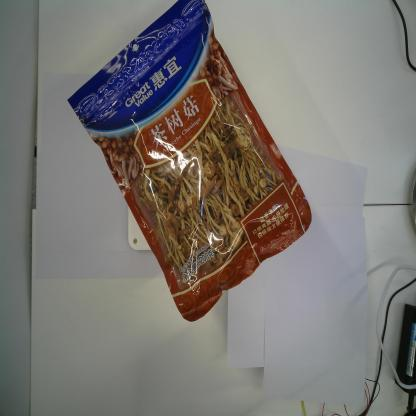Dried Food: (66, 0, 313, 324)
